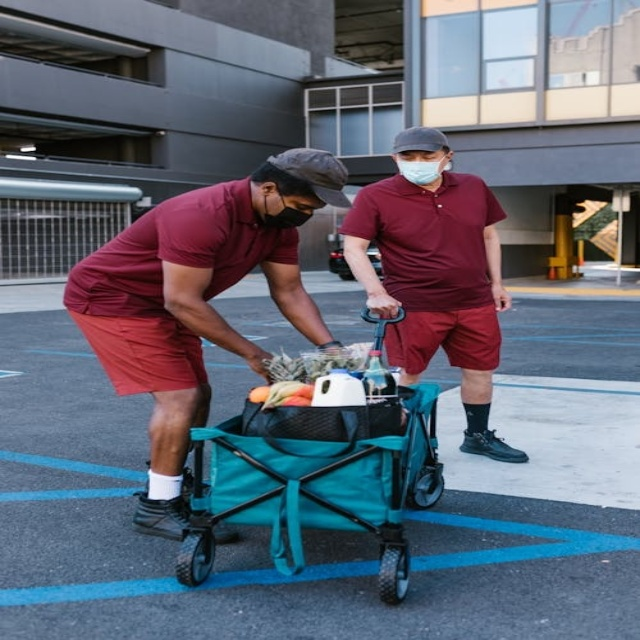Mascara: (259, 202, 316, 231), (393, 159, 443, 188)
Sin_gafas: (283, 198, 328, 217), (397, 151, 443, 161)
Sin_guantes: (486, 278, 515, 315), (365, 292, 401, 318)
